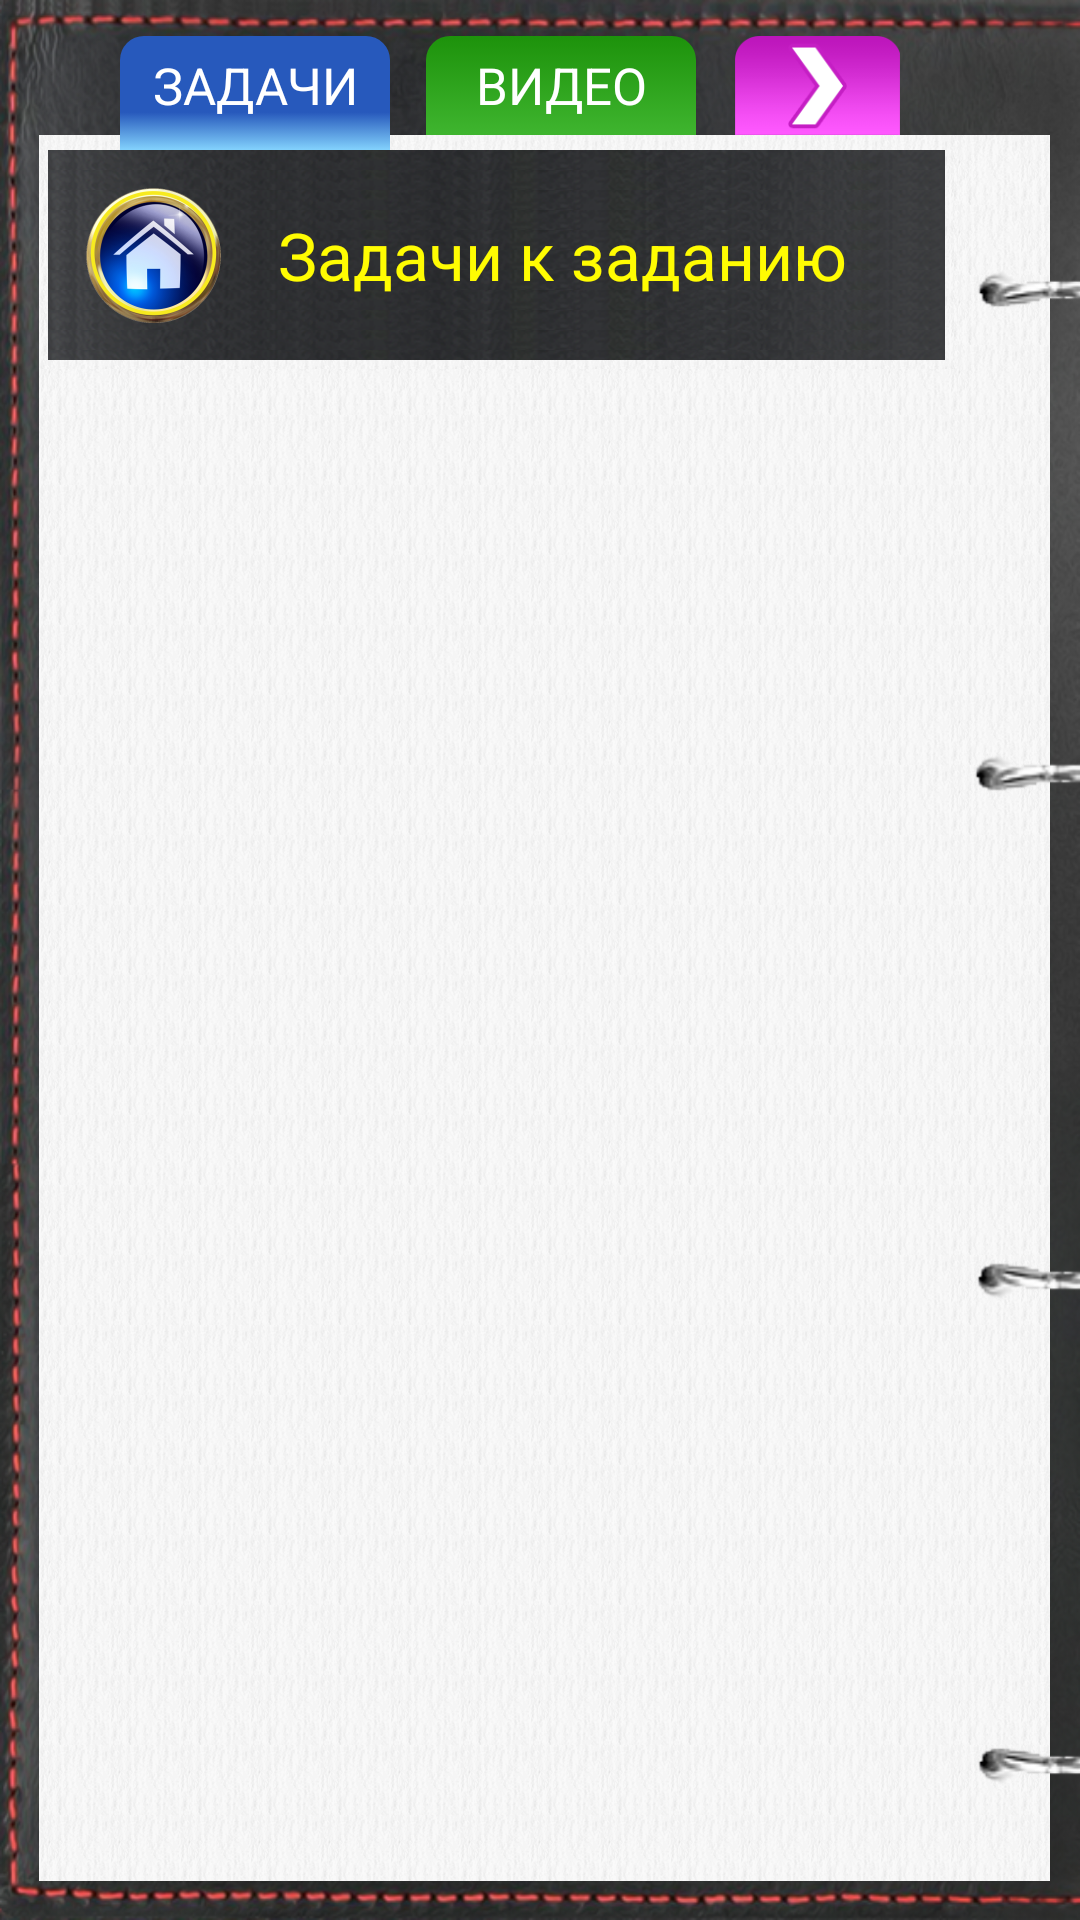

Icons on this 1080*1920 Android screen, each with the point to tap as [x,y]:
right: [817,85]
